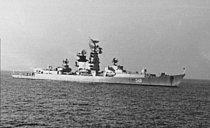Ship: (11, 46, 189, 88)
